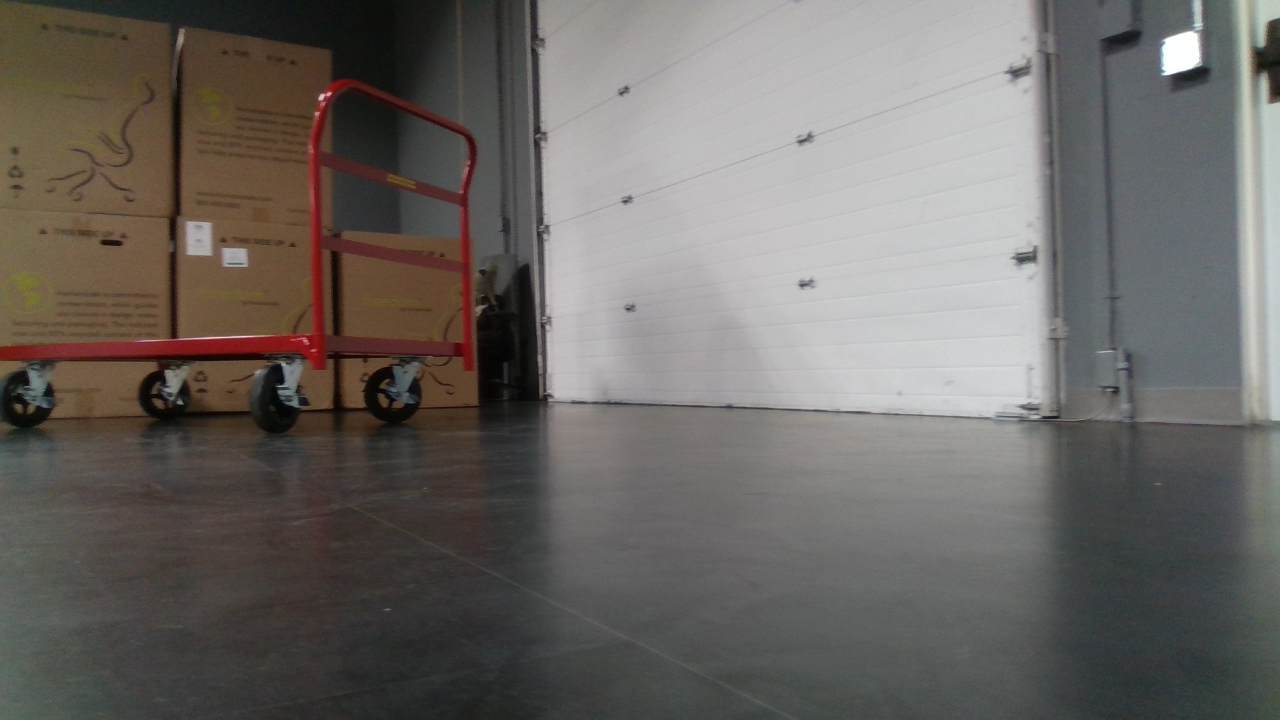Dolly: (0, 76, 478, 444)
Wheel: (248, 365, 301, 433), (363, 364, 423, 421), (0, 370, 57, 429), (138, 369, 193, 419)
